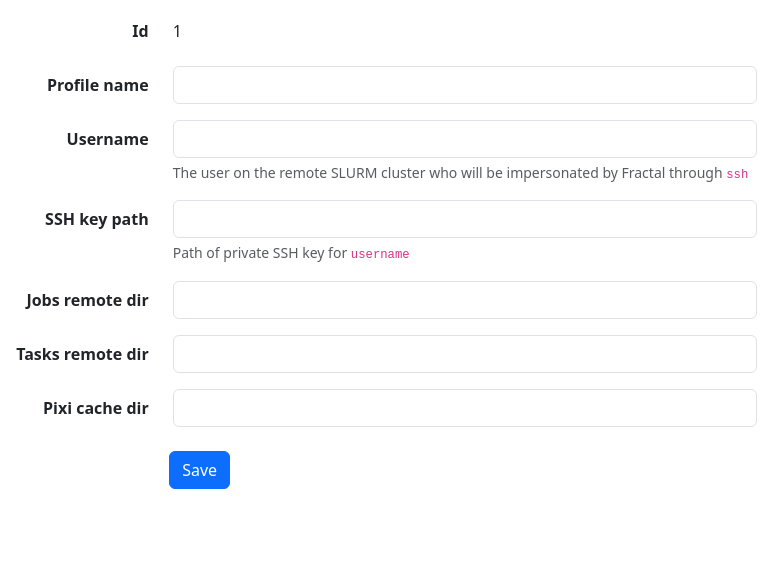
Scenario: ProfileEditor › Edit SLURM SSH profile - success
The image size is (778, 580).
In the field labelled "Profile name": (465, 85) [173,66,757,104], type "profile name"
In the field labelled "Username": (465, 139) [173,120,757,158], type "foo"
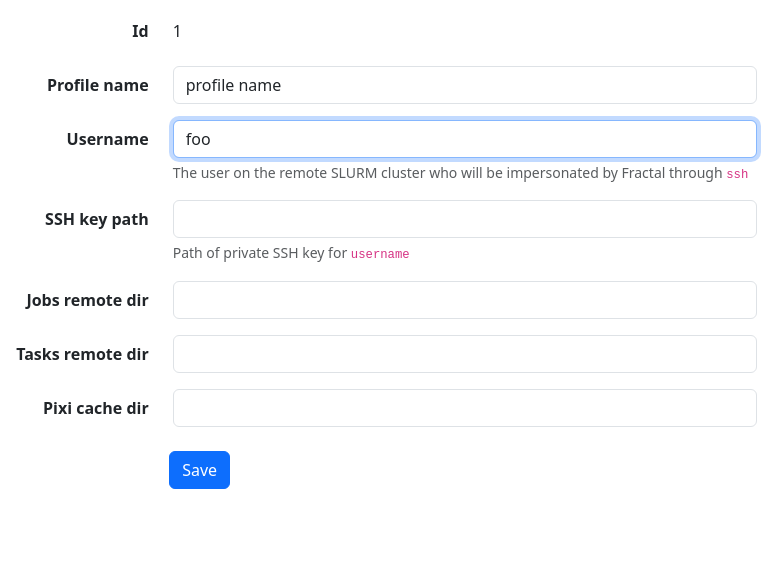
In the field labelled "SSH key path": (465, 219) [173,200,757,238], type "/path/to/key"
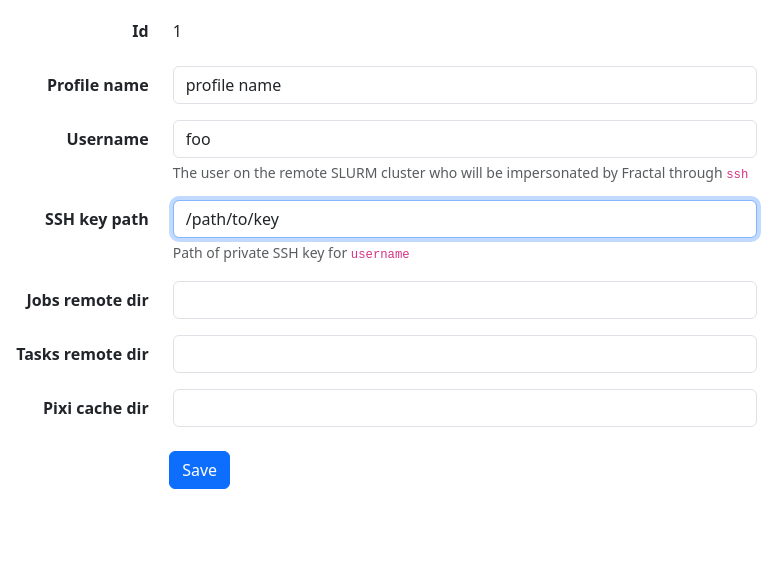
In the field labelled "Jobs remote dir": (465, 300) [173,281,757,319], type "/path/to/jobs"
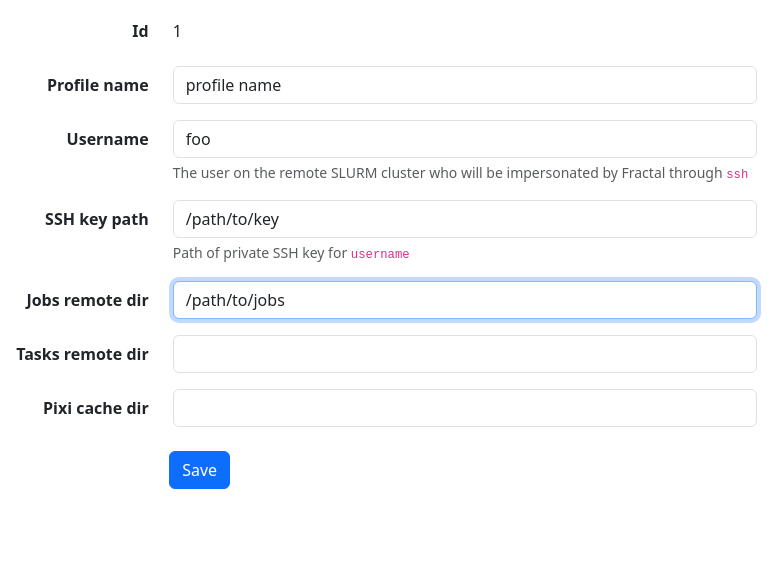
In the field labelled "Tasks remote dir": (465, 354) [173,335,757,373], type "/path/to/tasks"
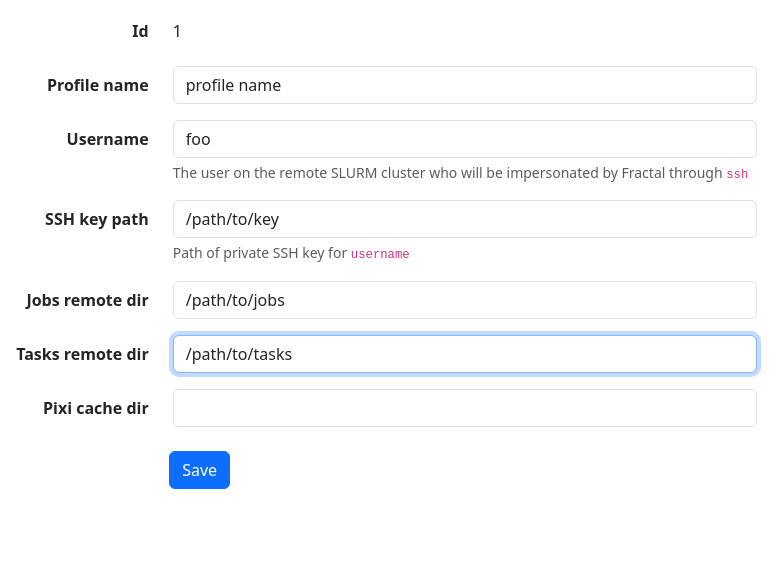
In the field labelled "Pixi cache dir": (465, 408) [173,389,757,427], type "/path/to/cache"
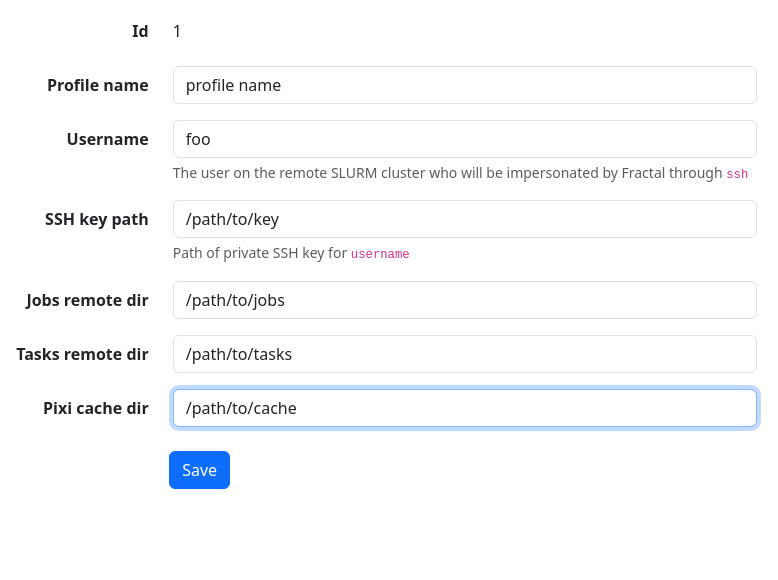
Click the button "Save": (200, 470) [169,451,230,489]
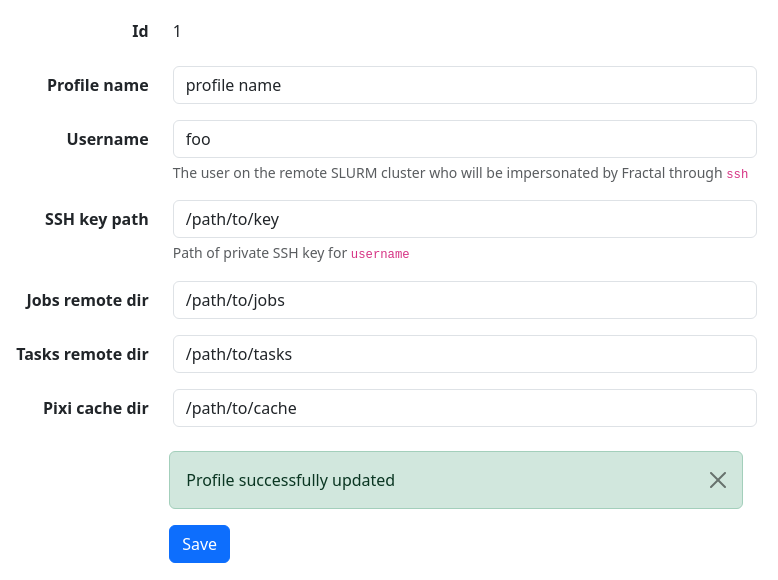
Expected: the text "Profile successfully updated" is shown, [169,451,743,509]
